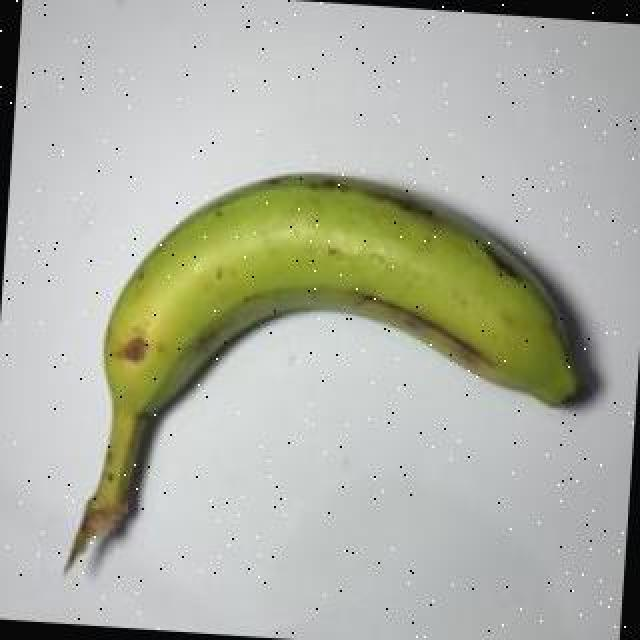Unripe: (68, 170, 581, 560)
